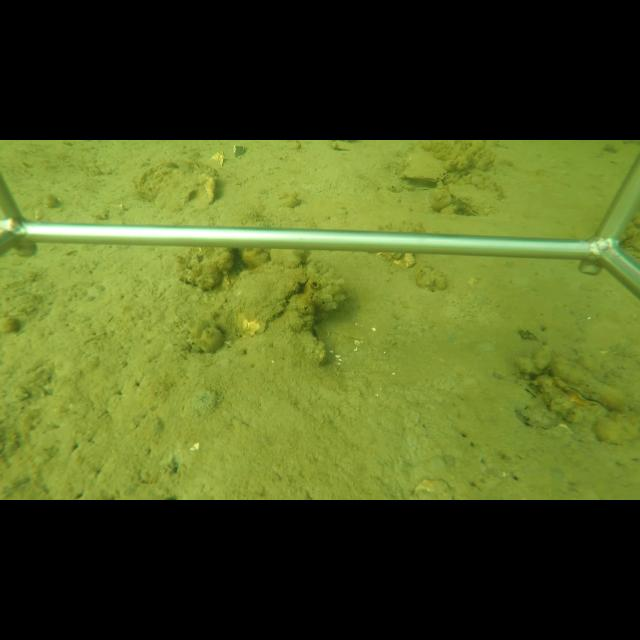Oyster-Closed: (225, 261, 307, 337), (548, 348, 628, 415), (398, 150, 450, 185), (449, 183, 492, 217)
